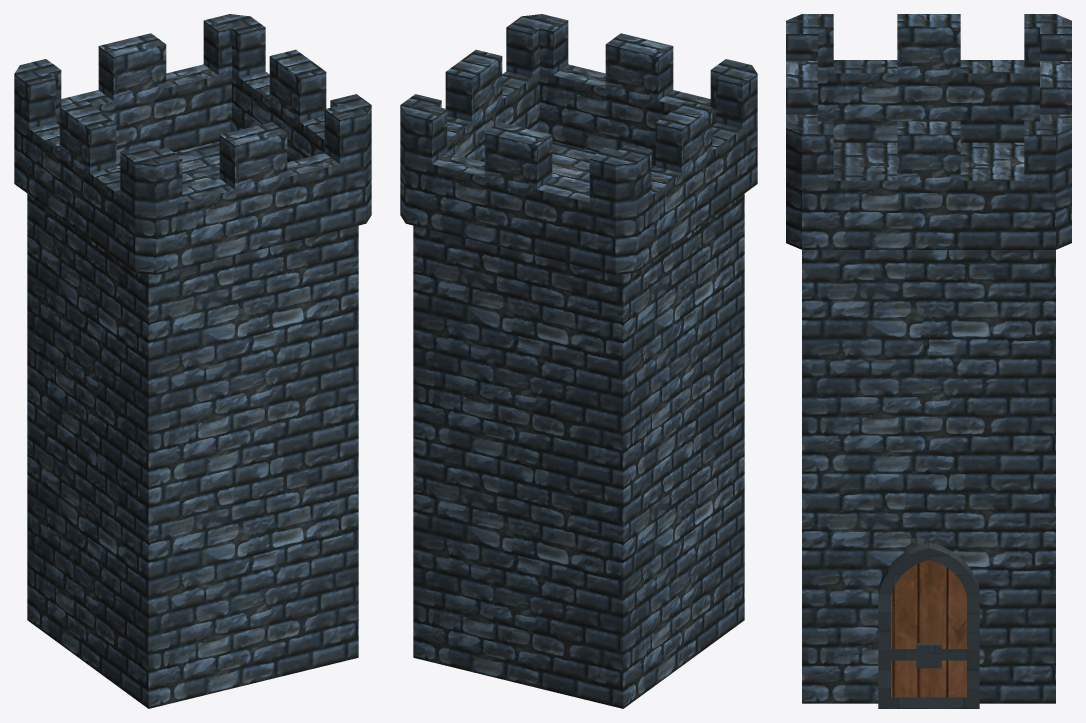
Rendered from Tower.dae.
3 renders of one model, left to right at view 1: azimuth 30°, elevation 25°; view 2: azimuth 150°, elevation 25°; view 3: azimuth 270°, elevation 25°, orthographic. The views are drawn at different scales.
Visible parts, largest first — view 1: mergedBlocks; view 2: mergedBlocks; view 3: mergedBlocks.
Part boxes in pixels (x1=…): mergedBlocks: x1=14, y1=14, x2=371, y2=708; mergedBlocks: x1=400, y1=14, x2=757, y2=708; mergedBlocks: x1=786, y1=14, x2=1071, y2=708.
Size of the model in its own units: 1.13 by 2.5 by 1.12.
Materials: 3 (3 with a texture image).
